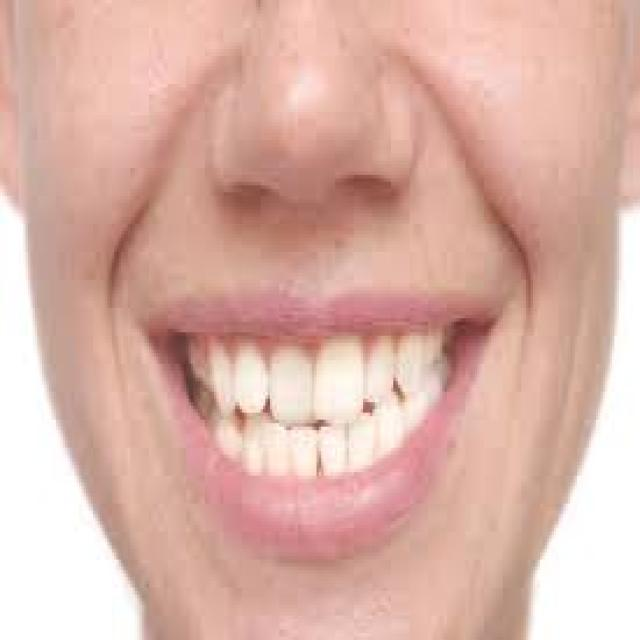tooth: (268, 350, 312, 420), (321, 357, 361, 416), (233, 350, 265, 409), (288, 427, 319, 479), (210, 342, 230, 412), (265, 430, 289, 483), (368, 346, 393, 395), (326, 430, 349, 483), (240, 420, 260, 479), (210, 423, 238, 462), (375, 409, 398, 455), (398, 342, 421, 384), (356, 430, 372, 476), (407, 395, 426, 430), (186, 343, 207, 367), (430, 343, 447, 367), (431, 384, 442, 398)
